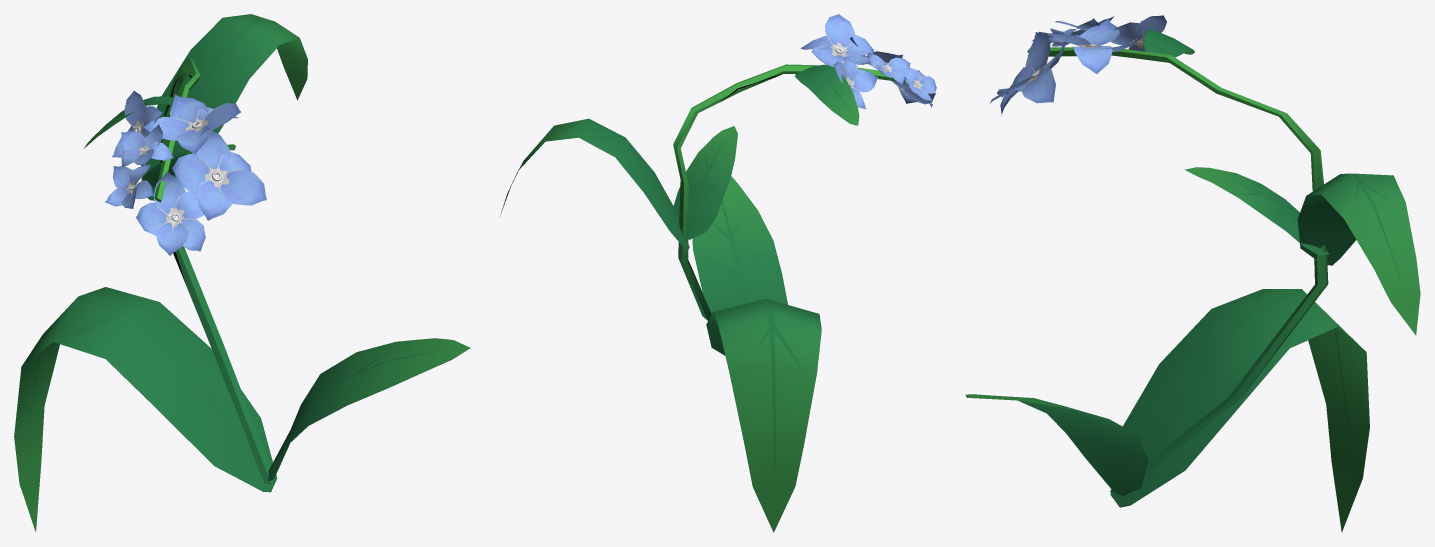
The model's file is SM_Myosotis1.fbx.
3 views of the same model, side by side, from view 1: azimuth 30°, elevation 25°; view 2: azimuth 150°, elevation 25°; view 3: azimuth 270°, elevation 25° (orthographic). The views are drawn at different scales.
Visible parts, largest first — view 1: Myosotis_Feuille_21; view 2: Myosotis_Feuille_21; view 3: Myosotis_Feuille_21.
Part boxes in pixels (<box>): Myosotis_Feuille_21: <box>14,14,470,531</box>; Myosotis_Feuille_21: <box>500,14,936,532</box>; Myosotis_Feuille_21: <box>965,15,1420,532</box>.
Size of the model in its own units: 40.76 by 42.78 by 55.32.
1 material, 1 textured.
